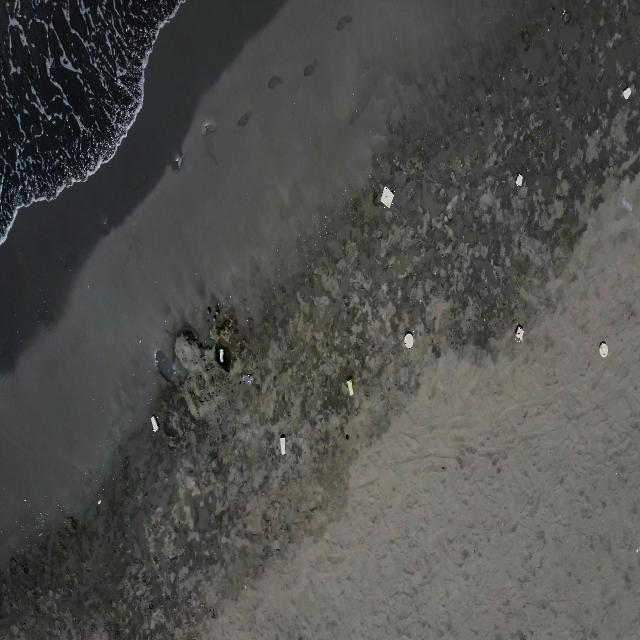take-away-containers: (380, 186, 395, 208), (403, 331, 414, 350), (516, 324, 526, 342), (599, 342, 608, 358), (515, 173, 524, 187), (623, 86, 631, 100)
takeaway-cup: (150, 415, 160, 433), (279, 435, 287, 455), (346, 376, 354, 396), (242, 374, 253, 384), (218, 347, 224, 364)
